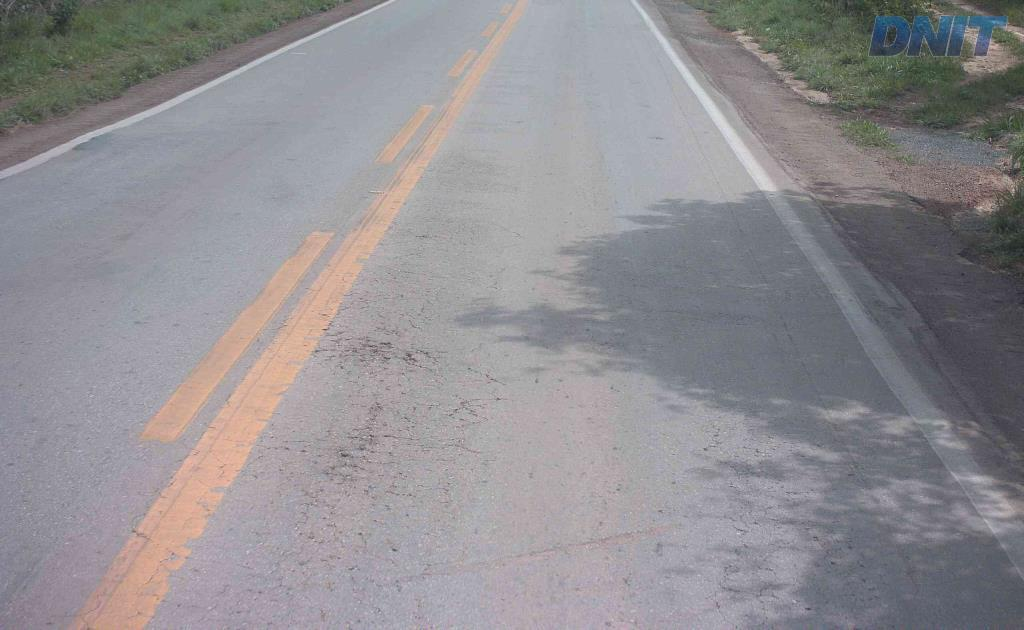crack: (357, 335, 394, 367)
